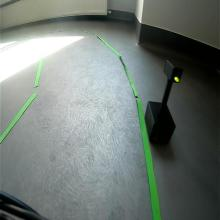green: (162, 58, 184, 85)
